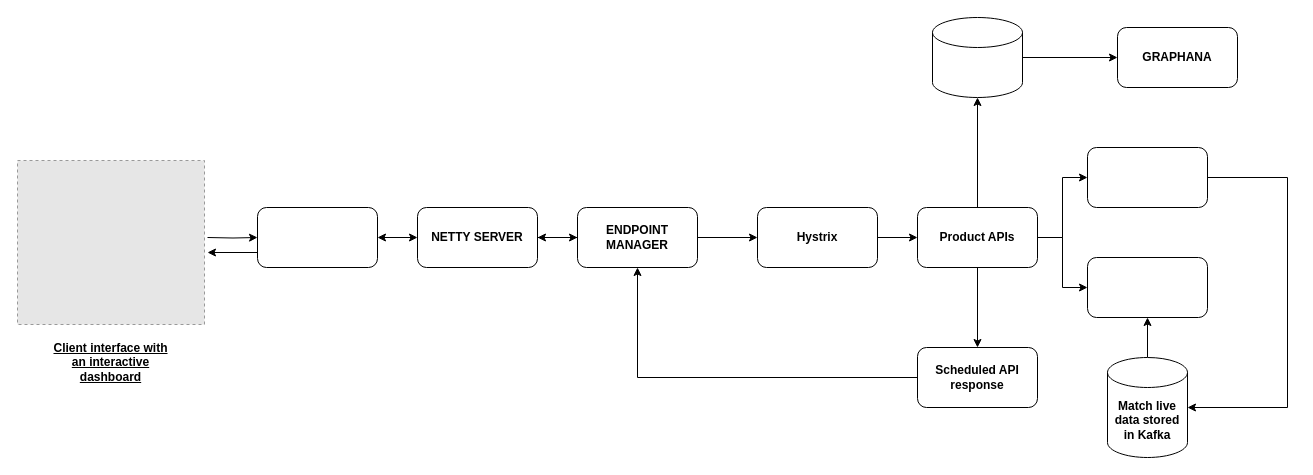
Image size: 1313x475. Some labels were removed from this diagram. Grey dashed boxes stand in for pictures. Each missing label, with the centre of its shape:
"AWS - ELB" goes at (x=317, y=237).
"Cricket Live Score APIs" goes at (x=1147, y=177).
"OPENTSTB" goes at (x=977, y=57).
"Score predictor engine" goes at (x=1147, y=287).
